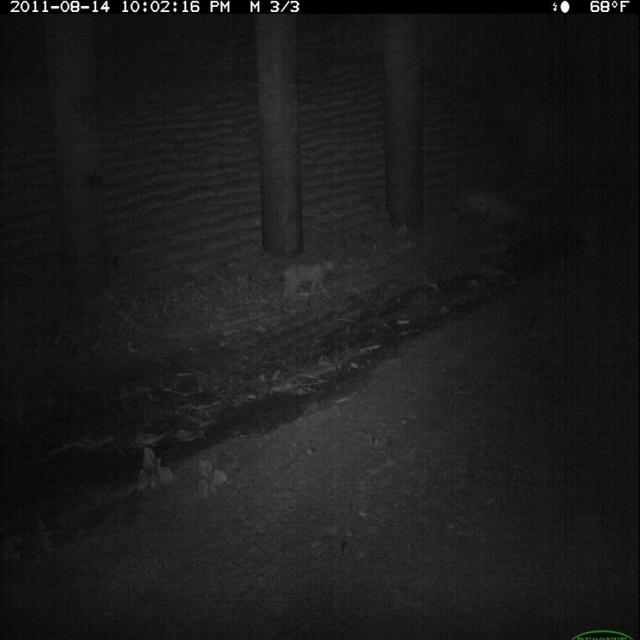bobcat: (276, 249, 342, 319)
